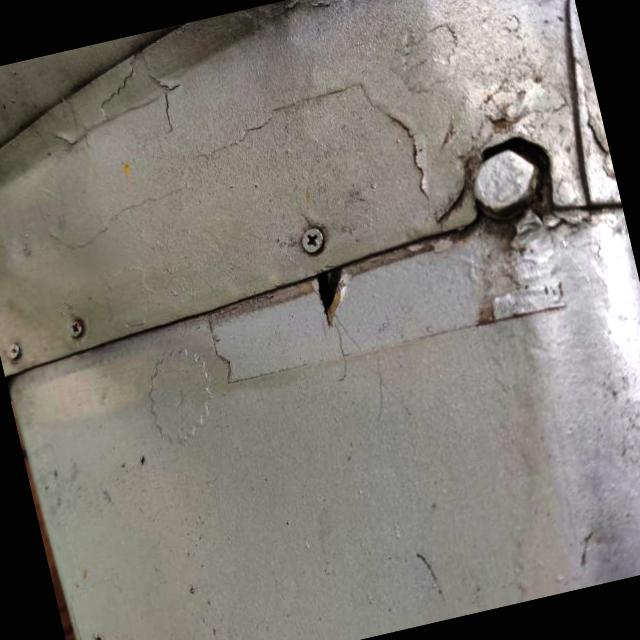crack: (280, 240, 385, 355)
